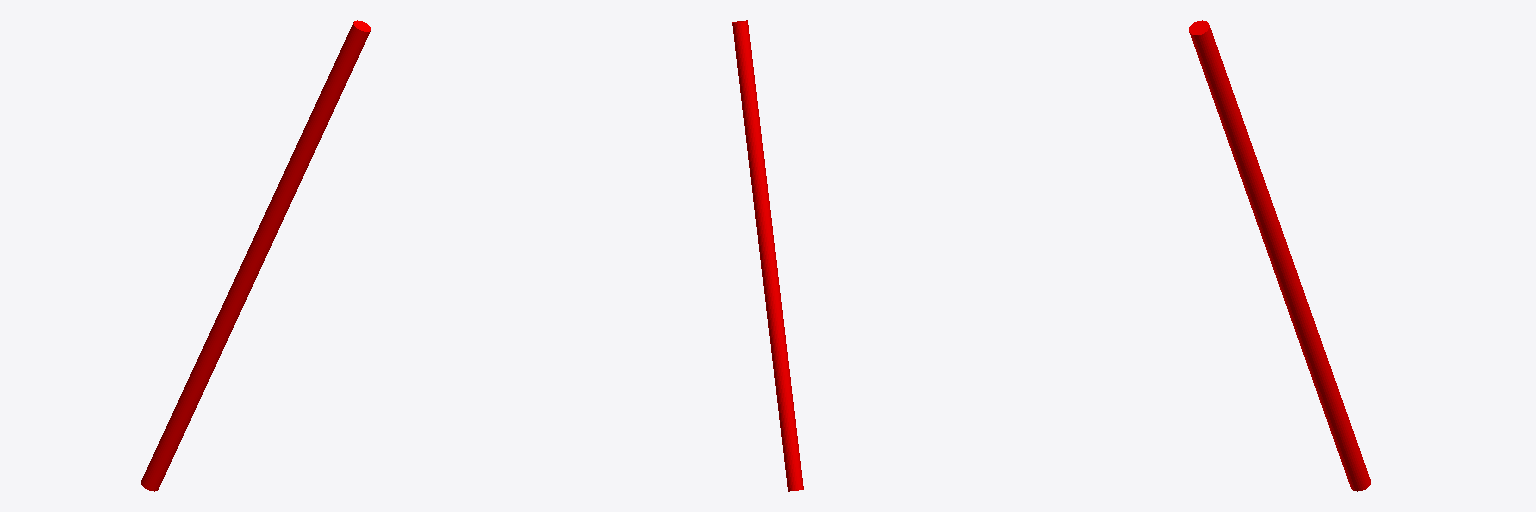
The robot description file, URDF, robot "tree_73.urdf":
<?xml version='1.0' encoding='utf-8'?>
<robot name="tree_73.urdf">
  <link name="branch_0">
    <inertial>
      <origin xyz="0.0 0.0 0.0" rpy="0.0 -0.0 0.0" />
      <mass value="1.0" />
      <inertia ixx="1.0" ixy="0.0" ixz="0.0" iyy="1.0" iyz="0.0" izz="1.0" />
    </inertial>
    <visual name="branch_0_visual">
      <geometry>
        <cylinder radius="0.04492092865273599" length="2.653904680696426" />
      </geometry>
      <material name="semantic_material" />
      <origin xyz="0.37597481357620255 -0.3374953611198601 1.2270054337021148" rpy="4.130926348642594e-17 0.390603744514247 -0.7315175531265342" />
    </visual>
    <collision name="branch_0_collision">
      <geometry>
        <cylinder radius="0.04492092865273599" length="2.653904680696426" />
      </geometry>
      <origin xyz="0.37597481357620255 -0.3374953611198601 1.2270054337021148" rpy="4.130926348642594e-17 0.390603744514247 -0.7315175531265342" />
    </collision>
  </link>
  <material name="semantic_material">
    <color rgba="1. 0. 0. 1." />
  </material>
</robot>

--- Facts derived from the render (not from the file) ---
The picture shows the robot from 3 angles, left to right: view 1: azimuth 30°, elevation 25°; view 2: azimuth 150°, elevation 25°; view 3: azimuth 270°, elevation 25°; orthographic projection.
Robot: tree_73.urdf — 1 links, 0 joints (none); root link branch_0; default pose: all joints at 0.
Links seen in each view (by area): view 1: branch_0; view 2: branch_0; view 3: branch_0.
Link boxes in pixels (<box>): branch_0: <box>141,20,370,491</box>; branch_0: <box>732,20,803,491</box>; branch_0: <box>1189,20,1370,491</box>.
Size in the robot's own frame: 0.8381 by 0.7615 by 2.49 metres.
Geometry: primitives only (box / cylinder / sphere), no mesh files.